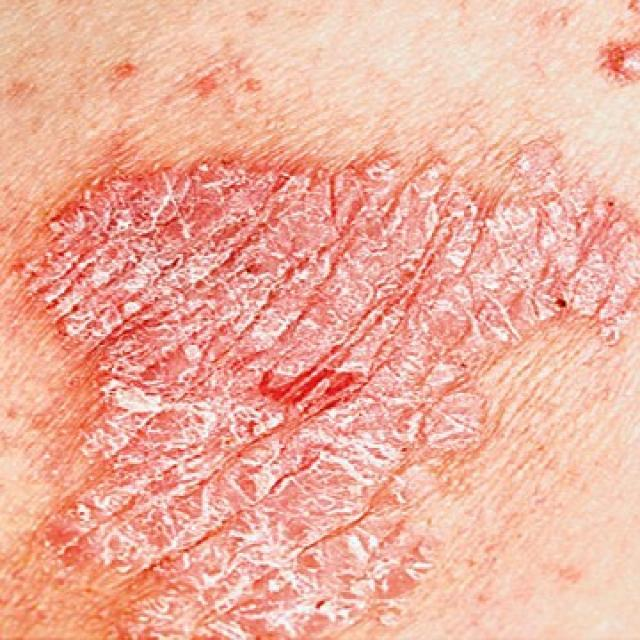Psoriasis: (4, 135, 638, 386), (32, 388, 523, 638), (594, 0, 638, 94)
